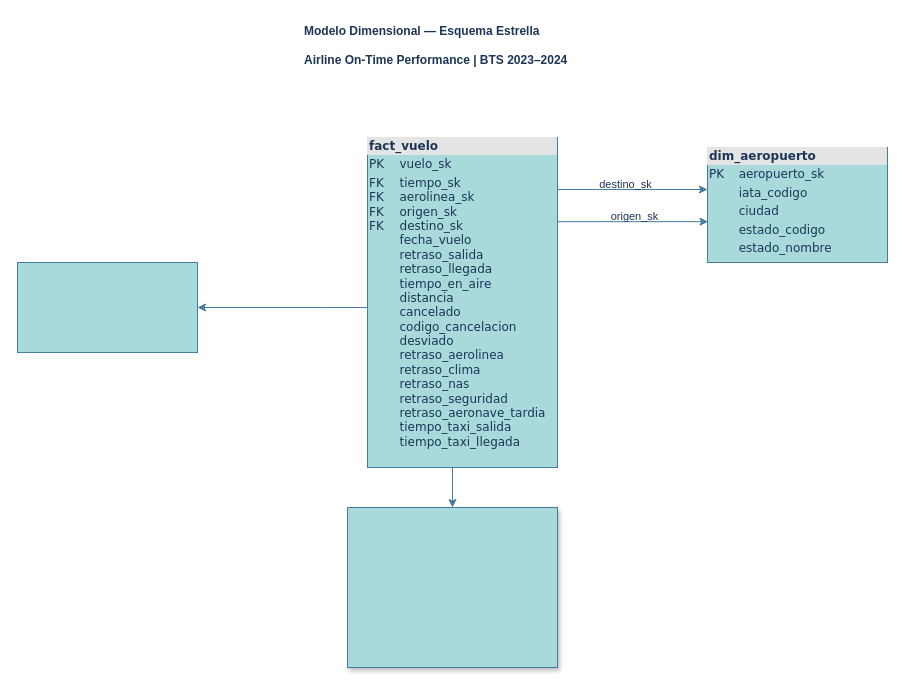
Image size: 905x692. Some labels were removed from this diagram. Here are the shapes that lost their labels. From the top down, the centre of each, then its label:
point (107, 307): dim_aerolinea PK aerolinea_sk iata_codigo nombre_aerolinea
point (453, 588): dim_tiempo PK tiempo_sk fecha dia mes trimestre anio dia_semana es_fin_semana
